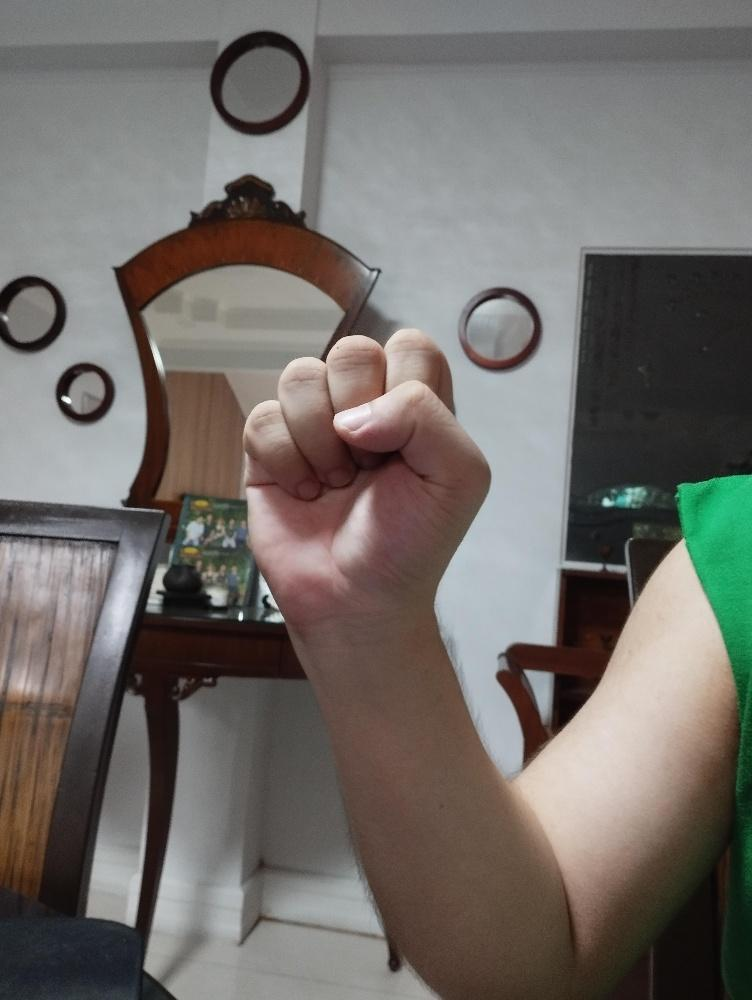s: (238, 325, 493, 626)
